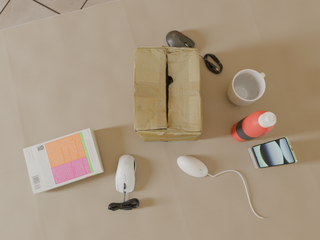book: (23, 128, 104, 194)
bottle: (231, 111, 276, 142)
box: (134, 45, 203, 142)
cup: (227, 69, 265, 106)
mouse: (116, 155, 136, 195), (177, 156, 208, 177), (166, 31, 195, 48)
phone: (253, 137, 297, 168)
